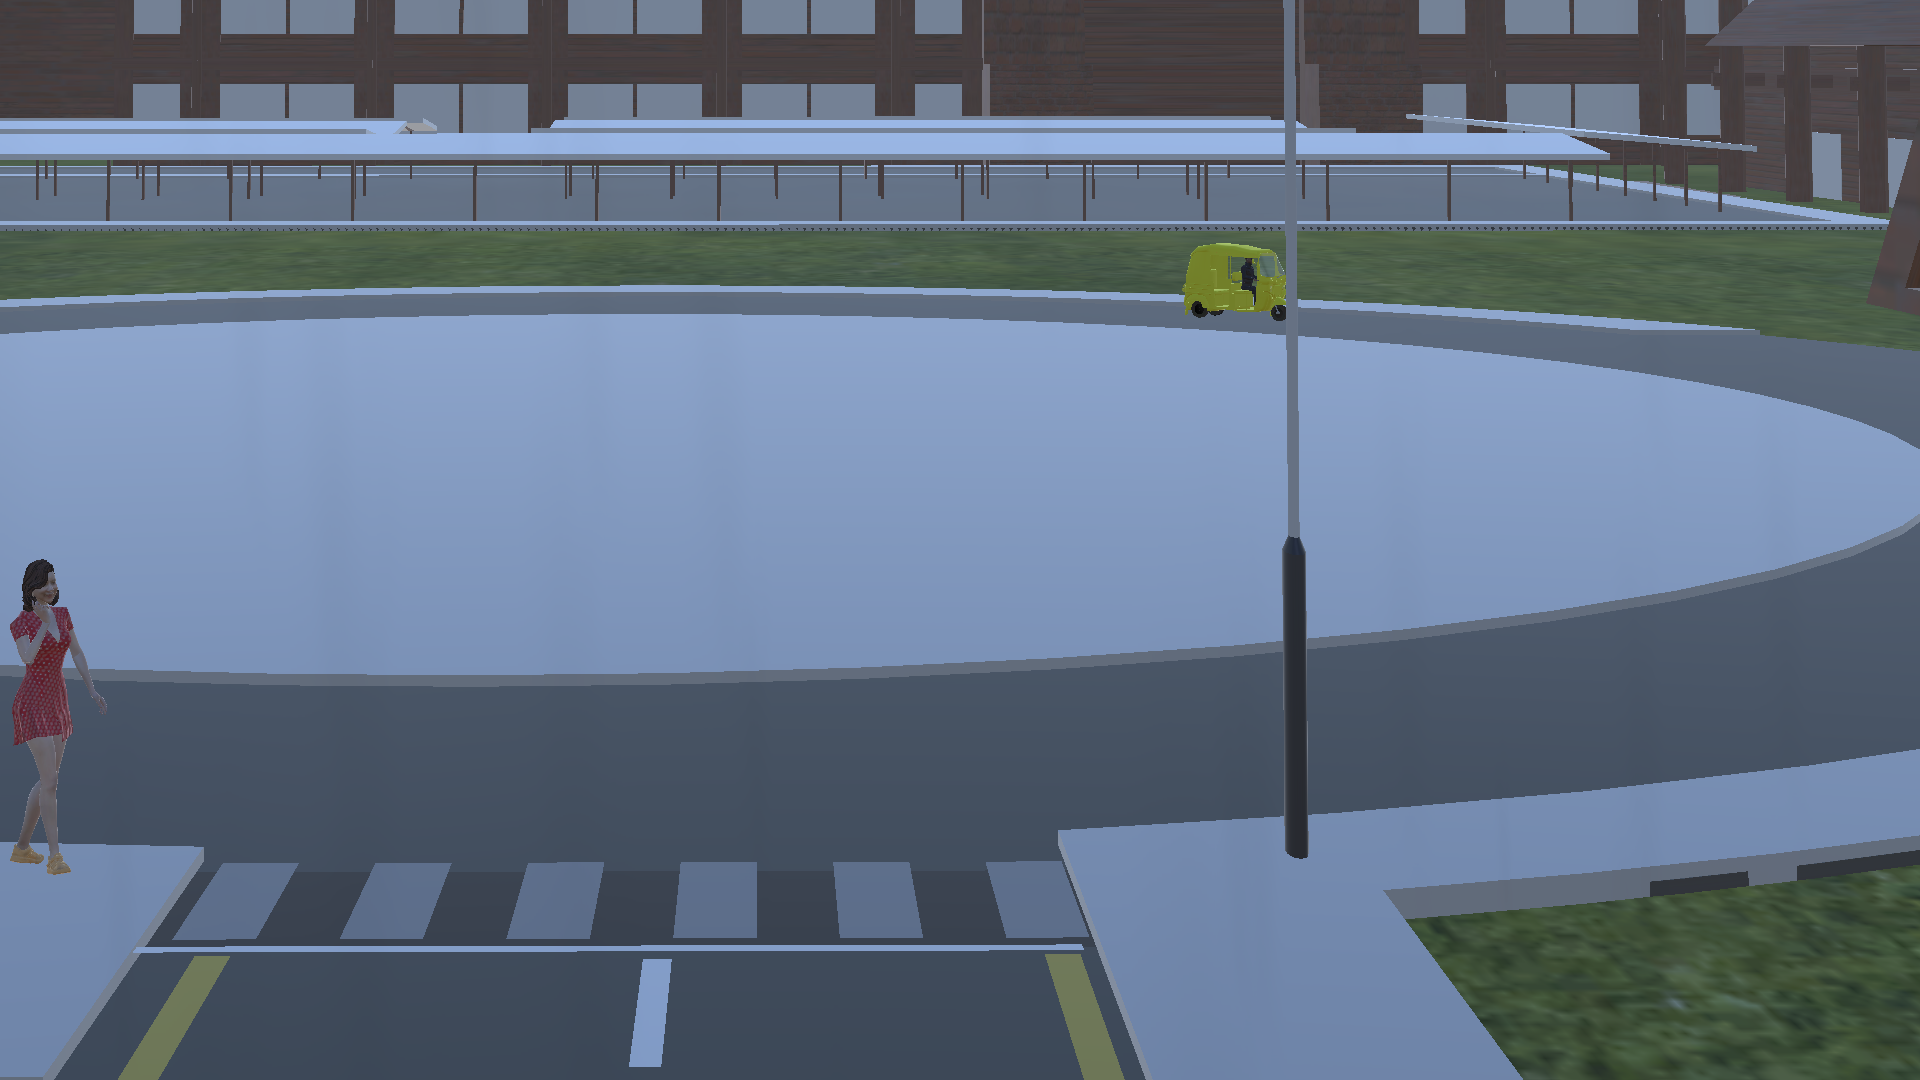pedestrian: (1, 540, 111, 884)
